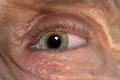eye: (42, 32, 69, 50)
